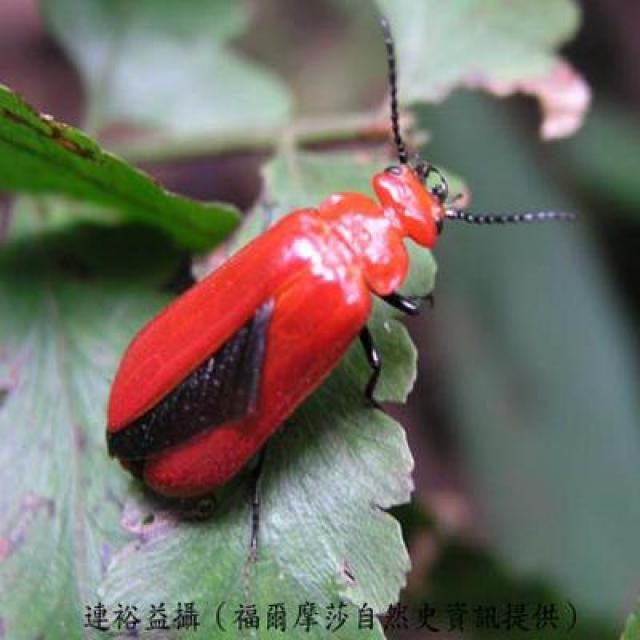BlisterBeetle-Adult-: (98, 41, 572, 519)
